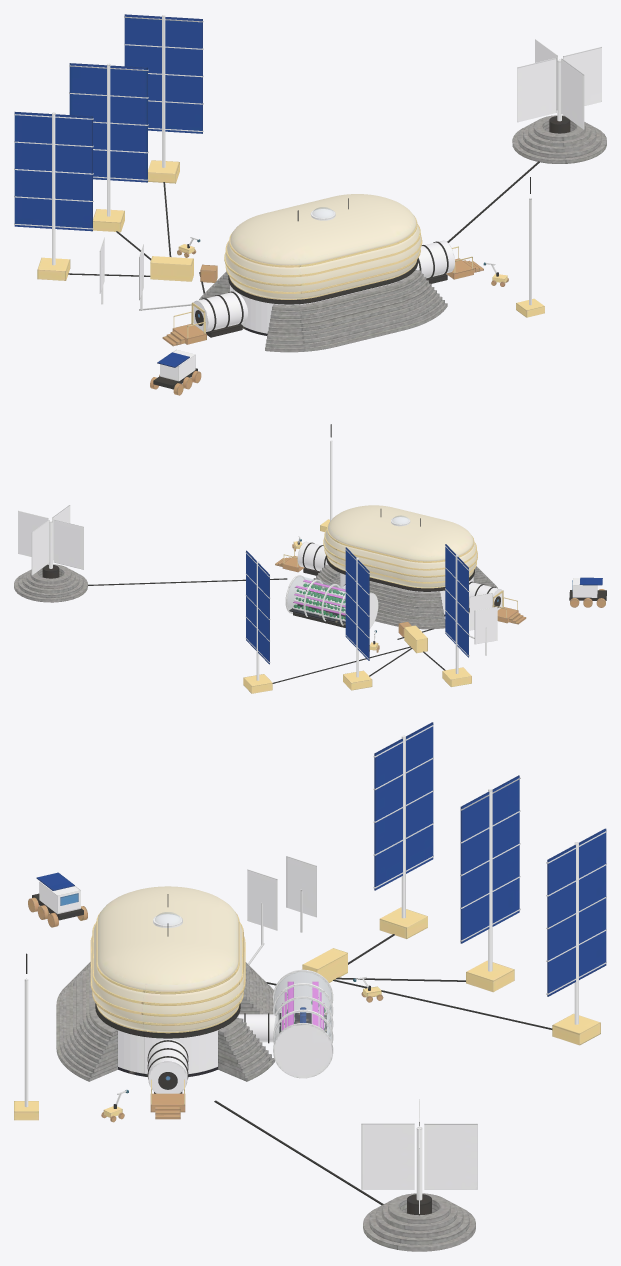
The model's file is lunar_smart_adaptive_habitat.glb.
3 views of the same model, one above another, from view 1: azimuth 30°, elevation 25°; view 2: azimuth 150°, elevation 25°; view 3: azimuth 270°, elevation 25° (orthographic). The views are drawn at different scales.
Visible parts, largest first — view 1: LunarSmartAdaptiveHabitat_RICH_BAKED; view 2: LunarSmartAdaptiveHabitat_RICH_BAKED; view 3: LunarSmartAdaptiveHabitat_RICH_BAKED.
Part boxes in pixels (box(x1,y1,x2,y2)): LunarSmartAdaptiveHabitat_RICH_BAKED: box(14, 14, 606, 395); LunarSmartAdaptiveHabitat_RICH_BAKED: box(14, 424, 606, 693); LunarSmartAdaptiveHabitat_RICH_BAKED: box(14, 722, 606, 1251).
Bounding box in the file's own units: 52.82 × 13.82 × 37.72.
2 materials, 1 textured.
